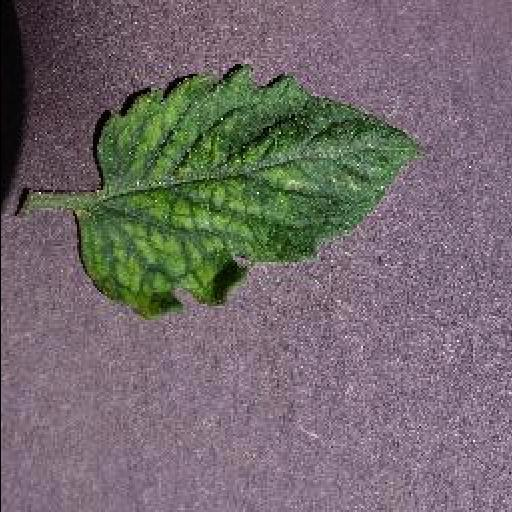disease_tomato: (74, 66, 436, 318)
